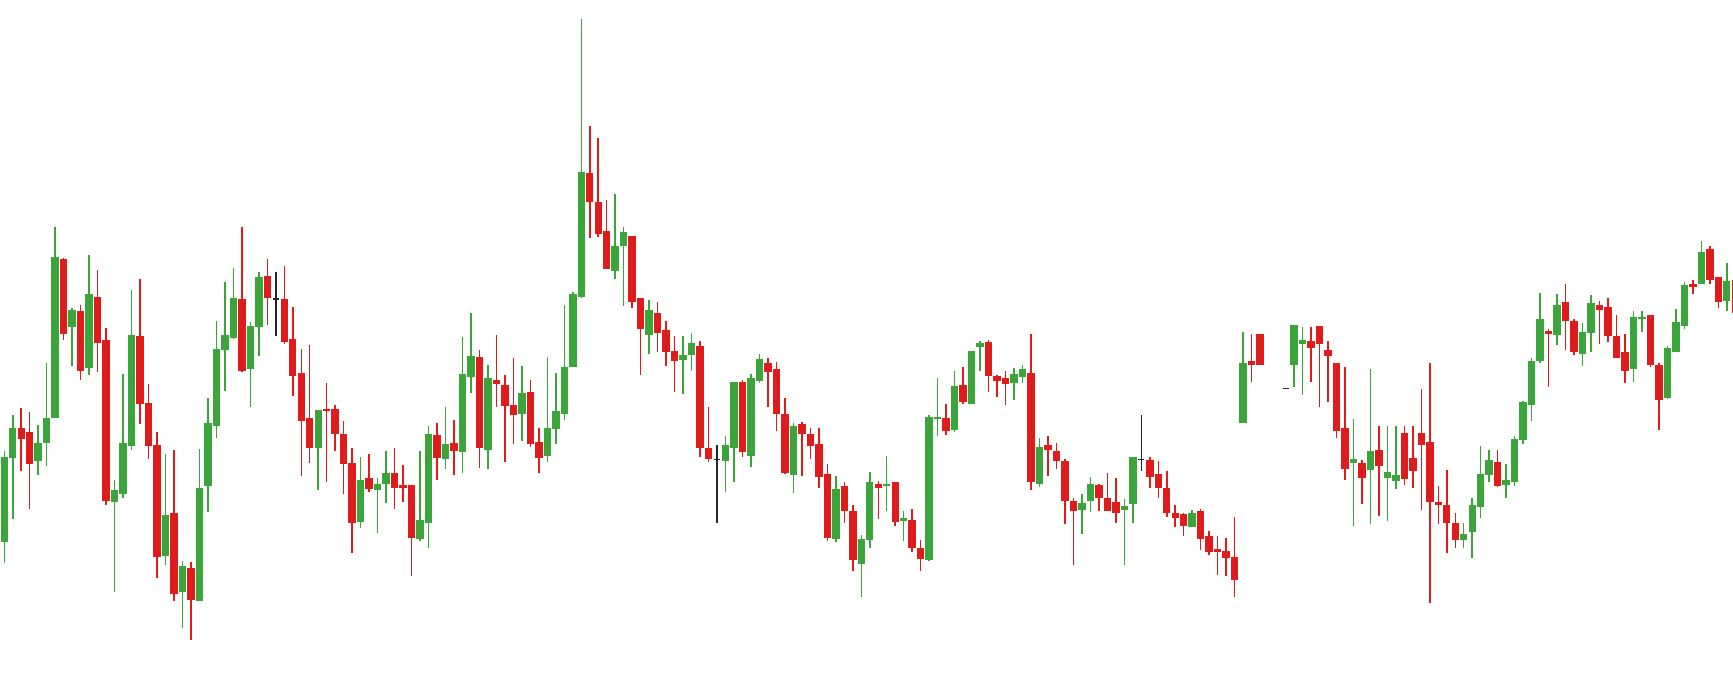buy: (1, 321, 120, 608), (344, 463, 424, 579), (501, 378, 552, 485)
sell: (134, 224, 246, 429)
